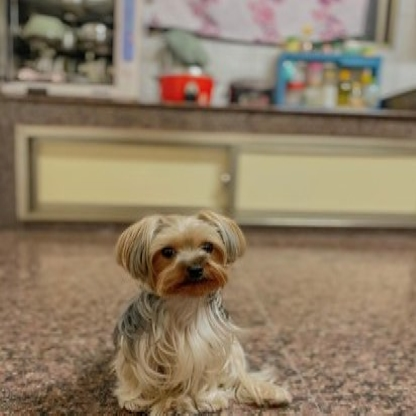yorkshire: (110, 209, 290, 415)
